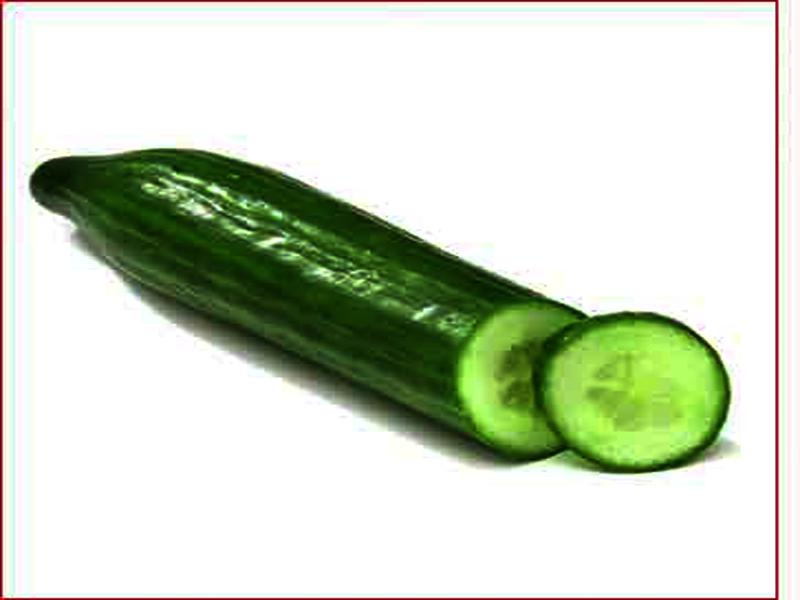Cucumber: (29, 150, 595, 460)
